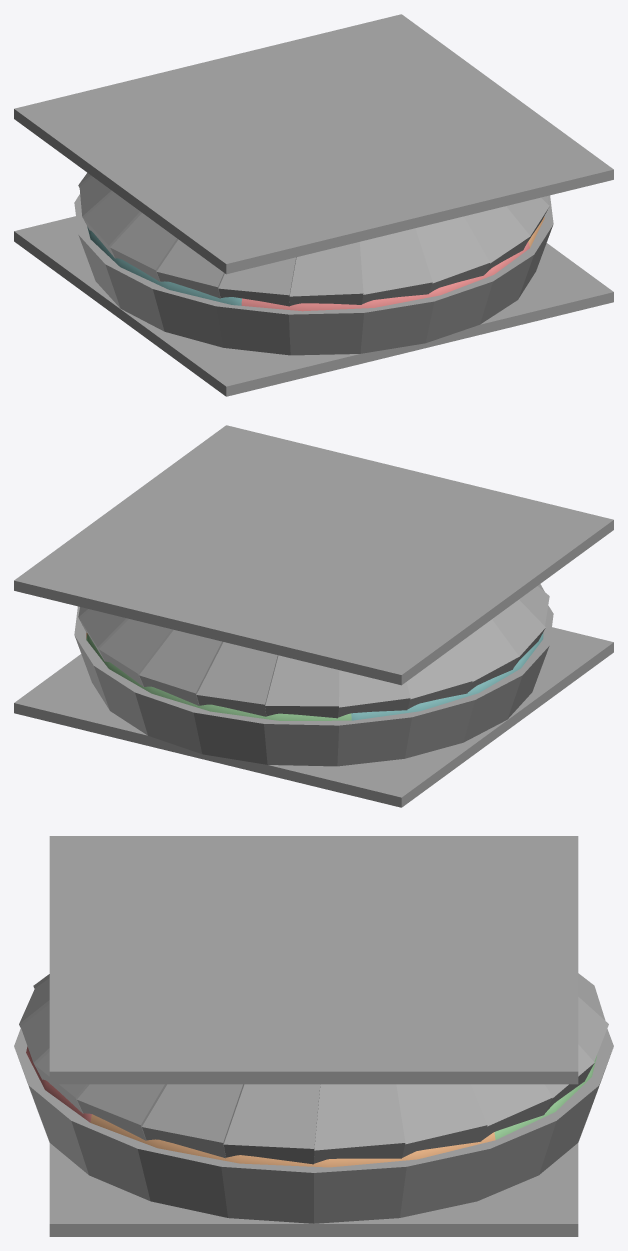
Rendered from cam_colider_01.fbx.
3 renders of one model, top to bottom at view 1: azimuth 30°, elevation 25°; view 2: azimuth 150°, elevation 25°; view 3: azimuth 270°, elevation 25°, orthographic. The views are drawn at different scales.
Parts seen in each view (by area): view 1: pCube1, pCube2, polySurface190, polySurface191, polySurface189, polySurface172, polySurface173, polySurface171, cam, polySurface174, polySurface170, polySurface192 (+10 smaller); view 2: pCube1, pCube2, polySurface199, polySurface198, polySurface200, polySurface179, polySurface178, polySurface180, polySurface177, cam, polySurface181, polySurface161 (+10 smaller); view 3: pCube1, pCube2, polySurface185, polySurface184, polySurface186, polySurface183, polySurface165, polySurface166, polySurface164, polySurface167, cam, polySurface163 (+12 smaller).
Boxes of the visible parts, bbox=[...] form: pCube1: bbox=[14, 14, 613, 274]; pCube2: bbox=[14, 216, 613, 396]; polySurface190: bbox=[359, 228, 432, 304]; polySurface191: bbox=[289, 242, 363, 305]; polySurface189: bbox=[415, 216, 490, 293]; polySurface172: bbox=[289, 308, 363, 355]; polySurface173: bbox=[216, 302, 290, 355]; polySurface171: bbox=[360, 297, 434, 353]; cam: bbox=[87, 217, 544, 311]; polySurface174: bbox=[153, 286, 222, 347]; polySurface170: bbox=[425, 278, 492, 342]; polySurface192: bbox=[218, 257, 296, 306]; pCube1: bbox=[14, 425, 613, 685]; pCube2: bbox=[14, 627, 613, 807]; polySurface199: bbox=[196, 642, 278, 716]; polySurface198: bbox=[265, 655, 339, 718]; polySurface200: bbox=[139, 630, 223, 705]; polySurface179: bbox=[264, 719, 338, 766]; polySurface178: bbox=[337, 713, 411, 766]; polySurface180: bbox=[193, 708, 267, 764]; polySurface177: bbox=[405, 696, 474, 758]; cam: bbox=[86, 632, 543, 720]; polySurface181: bbox=[99, 619, 173, 686]; polySurface161: bbox=[135, 689, 202, 753]; pCube1: bbox=[49, 836, 578, 1084]; pCube2: bbox=[49, 1143, 578, 1236]; polySurface185: bbox=[223, 1084, 320, 1164]; polySurface184: bbox=[314, 1084, 405, 1163]; polySurface186: bbox=[142, 1084, 244, 1158]; polySurface183: bbox=[396, 1084, 487, 1157]; polySurface165: bbox=[314, 1161, 406, 1223]; polySurface166: bbox=[221, 1161, 313, 1223]; polySurface164: bbox=[400, 1143, 489, 1217]; polySurface167: bbox=[138, 1144, 227, 1217]; cam: bbox=[26, 1046, 596, 1167]; polySurface163: bbox=[477, 1117, 556, 1201].
Size of the model in its own units: 591 by 180 by 591.
